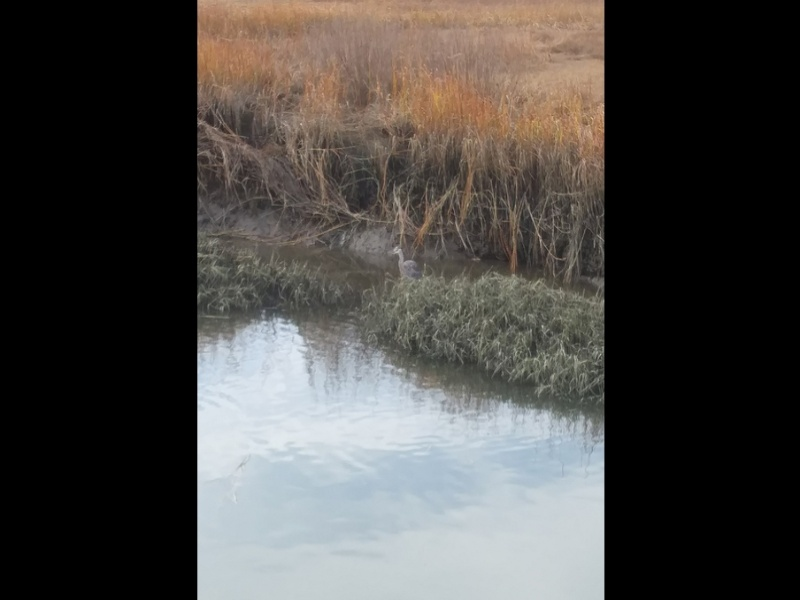heron: (384, 244, 427, 290)
